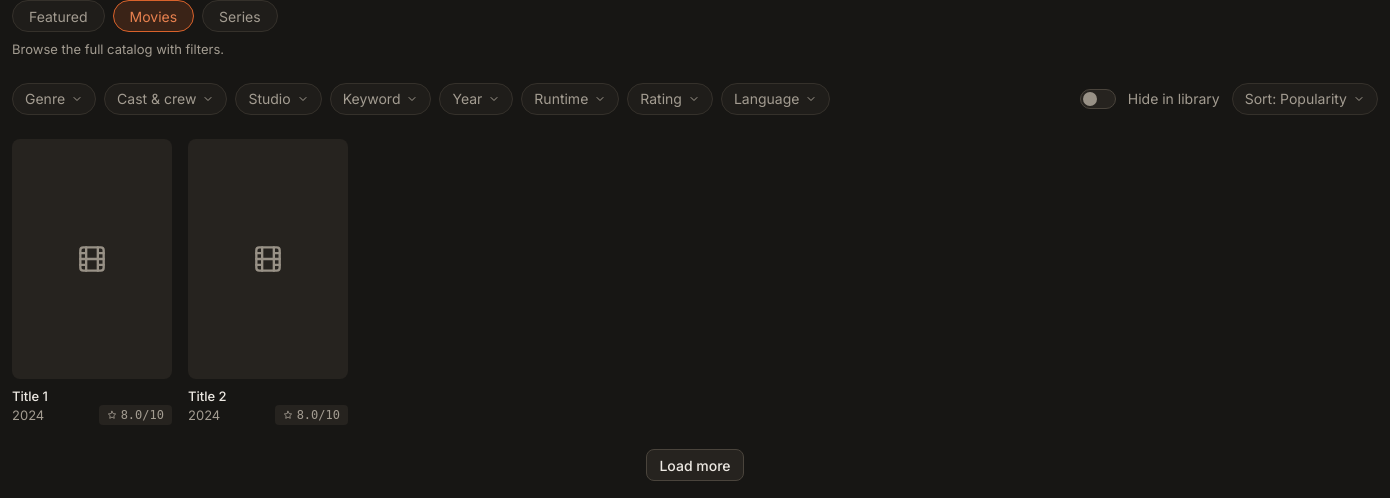
Test case: a filtered movie scope › appends the next page rather than replacing the grid
Click the button "Load more" at point(695, 465), box [646, 449, 744, 481]
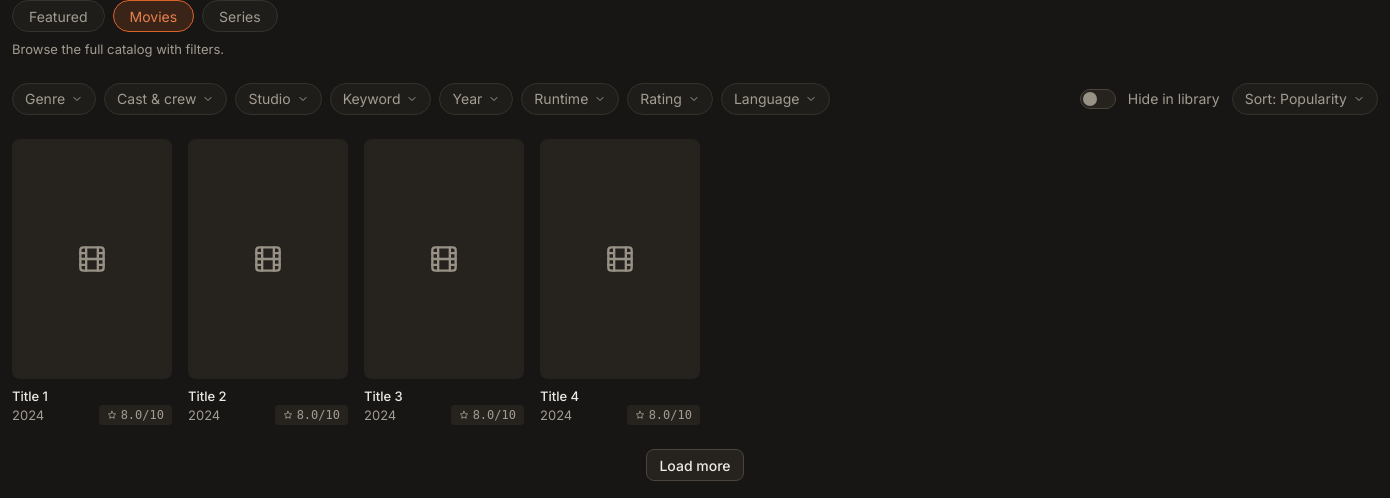
Check: the text "Title 1" is shown, box [12, 388, 48, 404]
Check: the text "Title 3" is shown, box [364, 388, 403, 404]
Check: the text "Title 4" is shown, box [540, 388, 579, 404]
